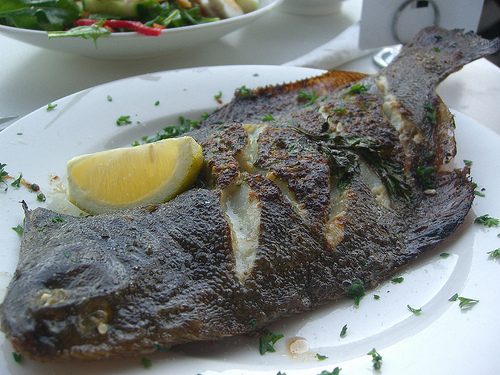fish: (0, 26, 499, 362)
